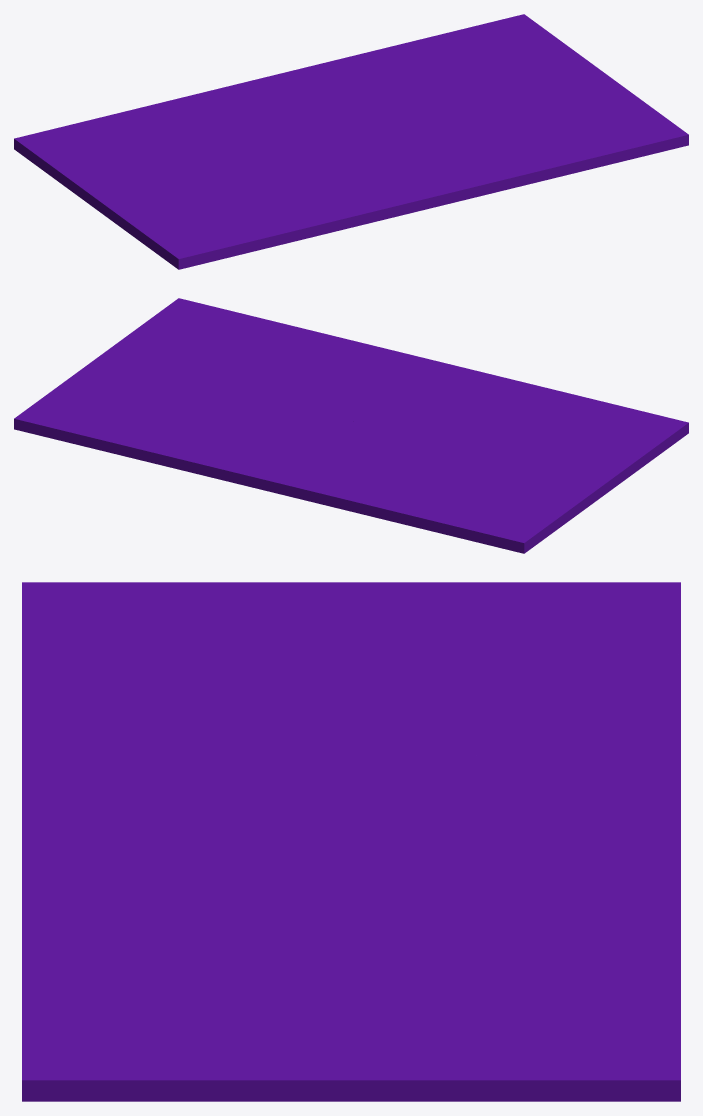
File: Exhibition_19.003_chunks.fbx
The picture shows the model from 3 angles, top to bottom: view 1: azimuth 30°, elevation 25°; view 2: azimuth 150°, elevation 25°; view 3: azimuth 270°, elevation 25°; orthographic projection. The views are drawn at different scales.
Visible parts, largest first — view 1: Exhibition_19.003_1, Exhibition_19.003_3, Exhibition_19.003_0, Exhibition_19.003_2; view 2: Exhibition_19.003_1, Exhibition_19.003_3, Exhibition_19.003_0, Exhibition_19.003_2; view 3: Exhibition_19.003_1, Exhibition_19.003_3, Exhibition_19.003_0, Exhibition_19.003_2.
Boxes of the visible parts, x1,y1,x2,y2 form: Exhibition_19.003_1: (355, 14, 688, 196); Exhibition_19.003_3: (94, 136, 482, 269); Exhibition_19.003_0: (87, 33, 443, 139); Exhibition_19.003_2: (14, 121, 324, 213); Exhibition_19.003_1: (14, 298, 384, 450); Exhibition_19.003_3: (349, 348, 688, 488); Exhibition_19.003_0: (93, 419, 451, 528); Exhibition_19.003_2: (370, 429, 612, 553); Exhibition_19.003_1: (22, 834, 680, 1101); Exhibition_19.003_3: (22, 582, 367, 878); Exhibition_19.003_0: (349, 653, 680, 1002); Exhibition_19.003_2: (360, 582, 680, 808).
Size of the model in its own units: 642 by 12.85 by 359.
